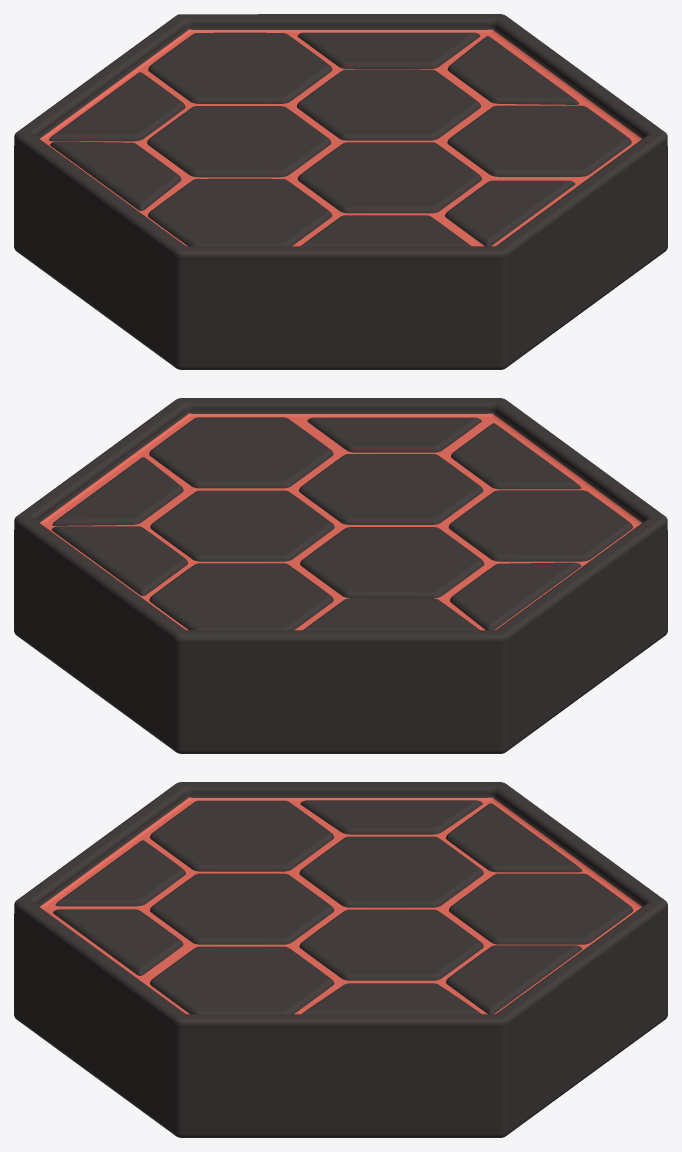
The model's file is lava_base.fbx.
3 renders of one model, top to bottom at view 1: azimuth 30°, elevation 25°; view 2: azimuth 150°, elevation 25°; view 3: azimuth 270°, elevation 25°, orthographic.
Visible parts, largest first — view 1: lava base, Cylinder; view 2: lava base, Cylinder; view 3: lava base, Cylinder.
Boxes of the visible parts, x1,y1,x2,y2 form: lava base: (14, 14, 667, 369); Cylinder: (49, 32, 631, 246); lava base: (14, 398, 667, 753); Cylinder: (51, 417, 632, 630); lava base: (14, 782, 667, 1137); Cylinder: (53, 800, 633, 1014).
Size of the model in its own units: 866 by 200 by 996.
